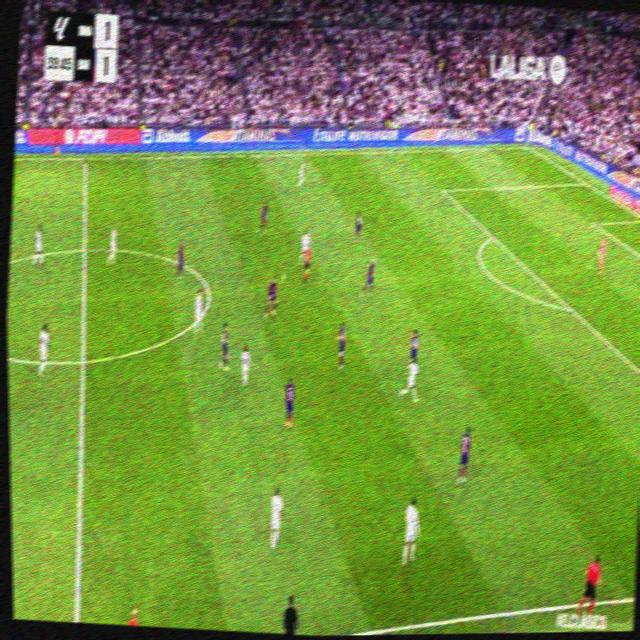bigarea_top_inner: (438, 181, 447, 197)
bottom_arc_area_intersection: (565, 299, 576, 317)
corner: (522, 141, 532, 151)
halfcircle_bottom: (76, 345, 90, 374)
halfcircle_top: (77, 237, 91, 259)
midline_top_intersection: (80, 152, 89, 164)
smallarea_top_inner: (590, 217, 598, 229)
top_arc_area_intersection: (488, 228, 497, 242)
